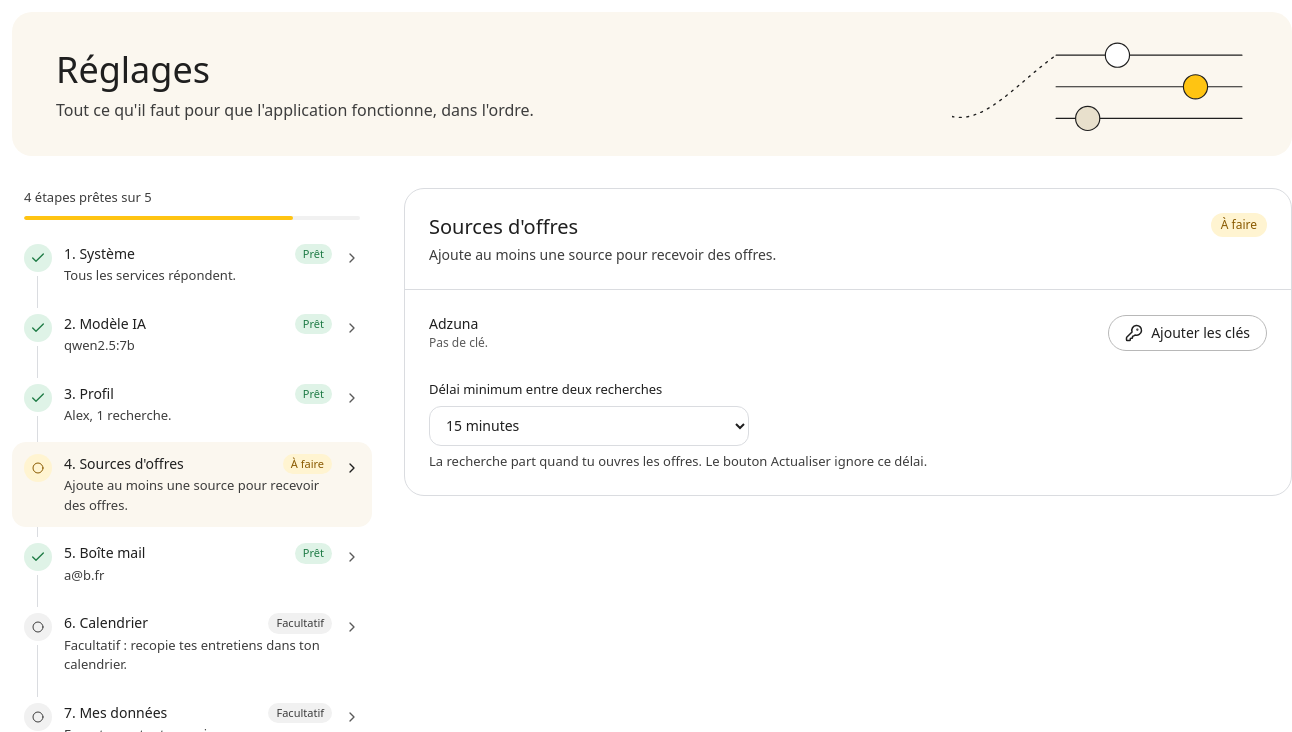
Test: SettingsScreen › keeps refused source keys out and explains why, then accepts good ones
Click the button "Ajouter les clés": (1188, 333) [1108,315,1267,351]
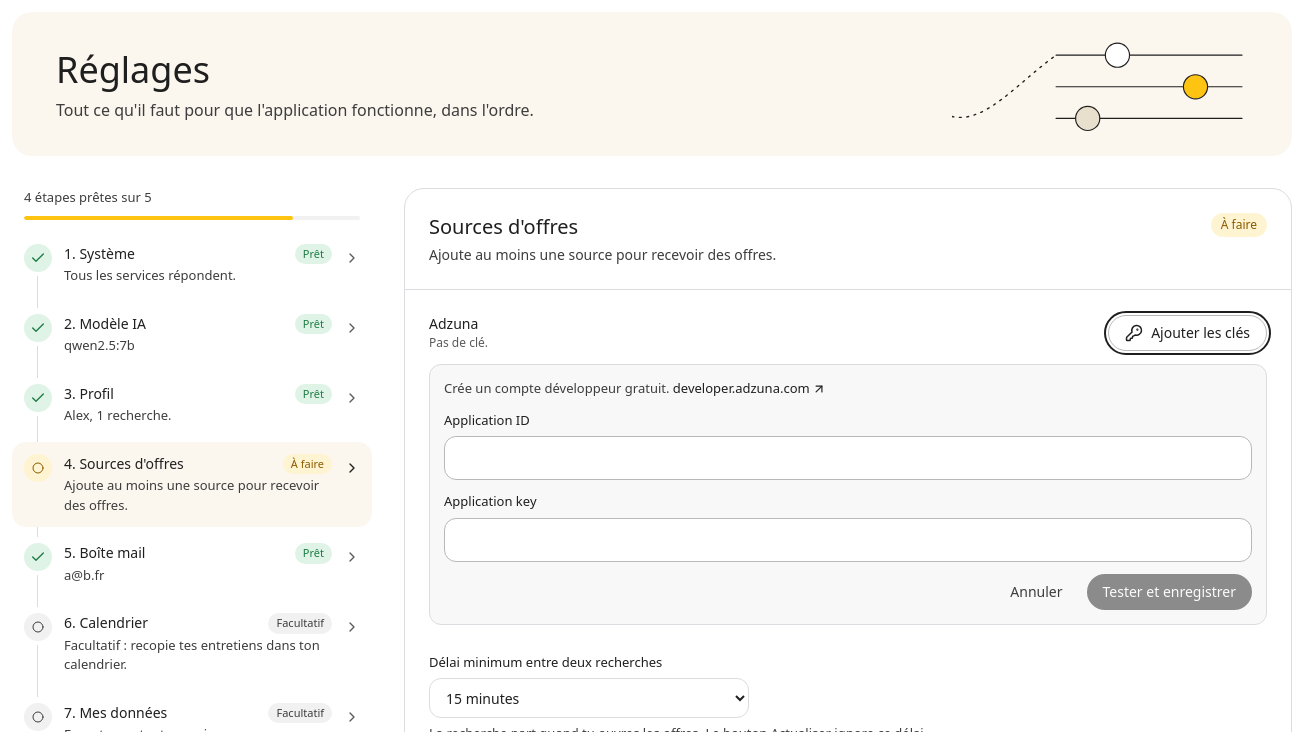
In the field labelled "Application ID": (848, 458) [444,436,1252,480], type "id"
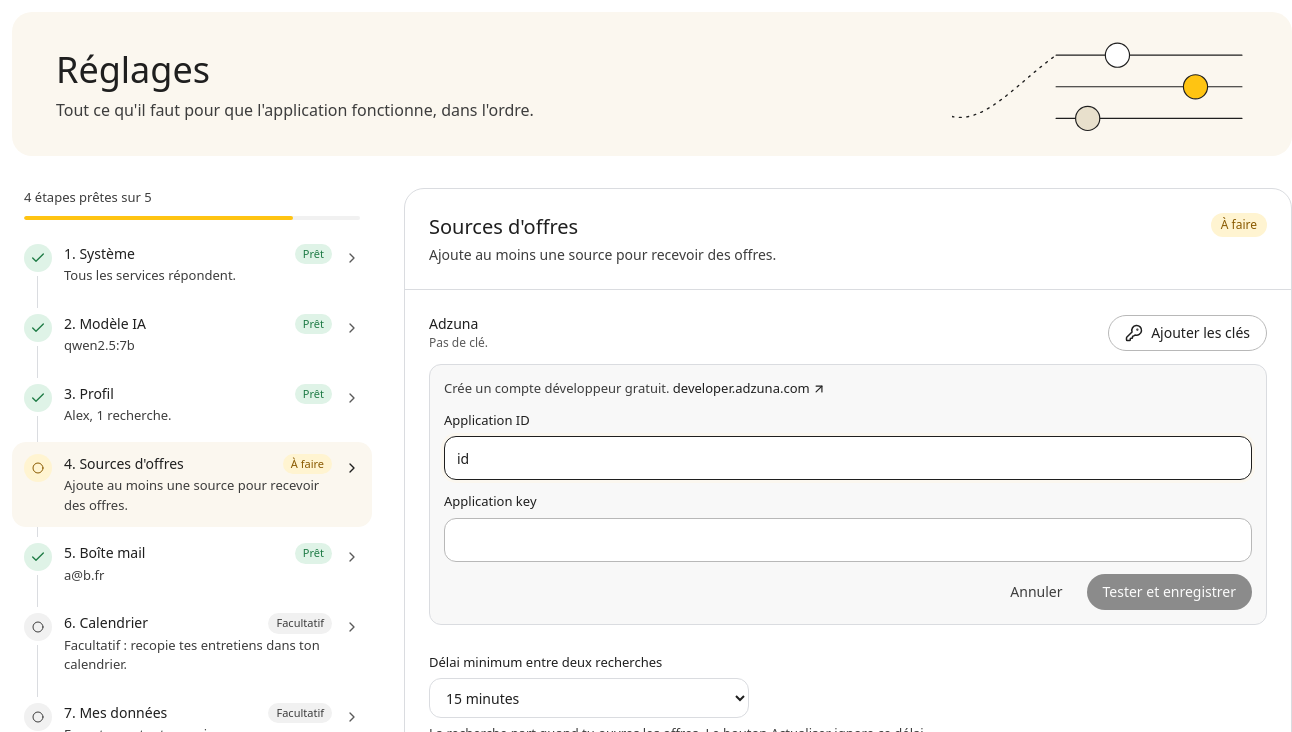
In the password field labelled "Application key": (848, 540) [444,518,1252,562], type "mauvais"
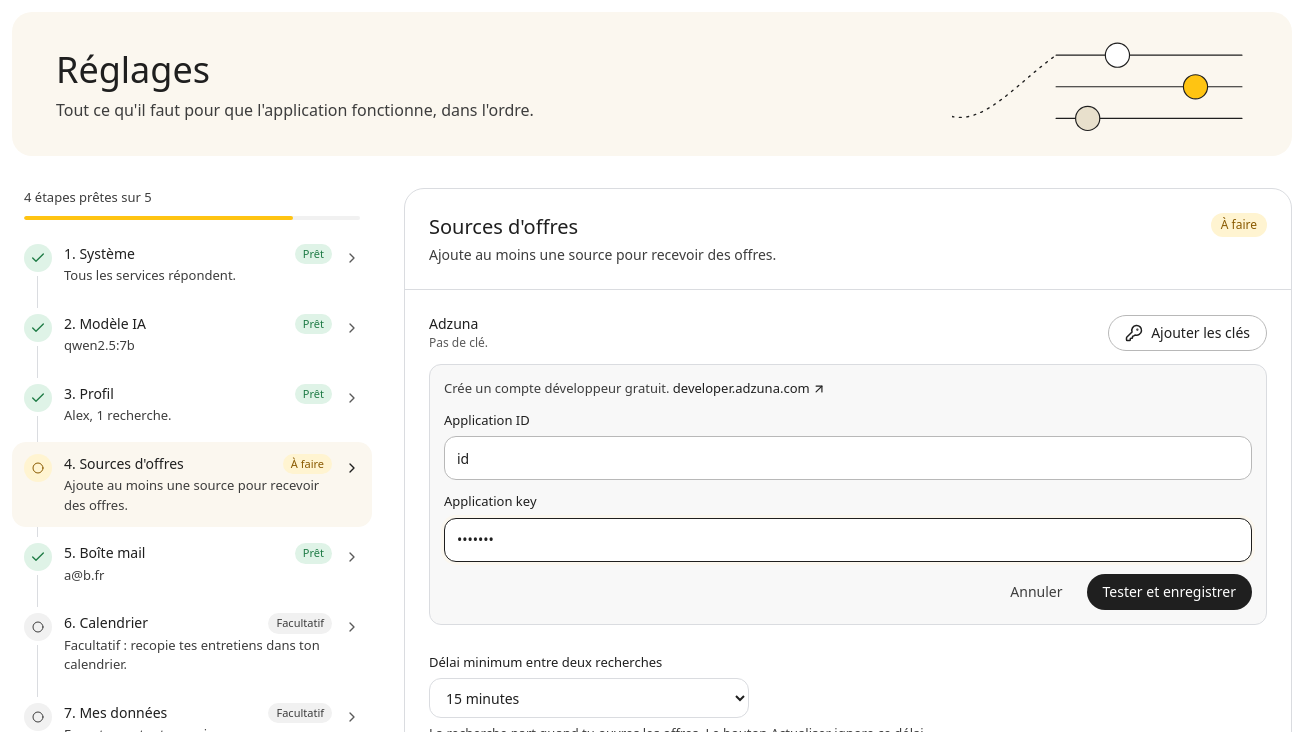
Click the button "Tester et enregistrer": (1169, 592) [1086,574,1252,610]
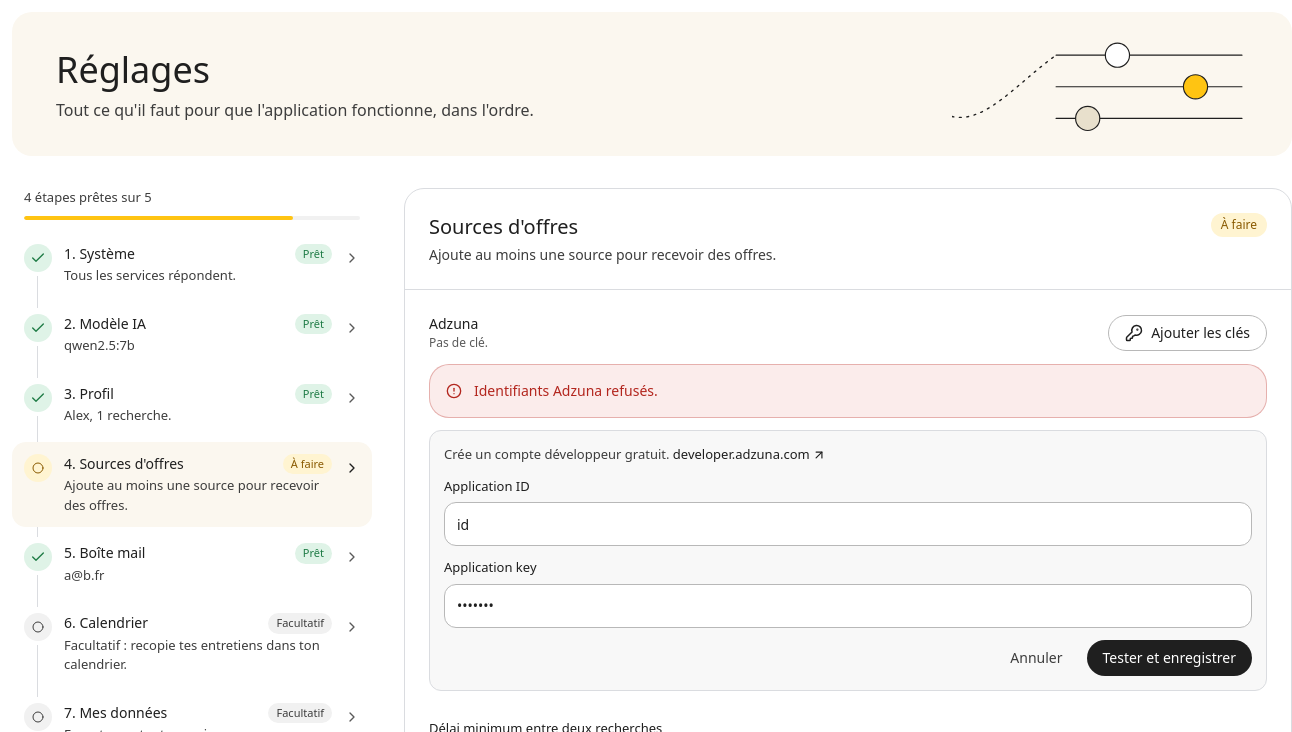
expect the text "Identifiants Adzuna refusés." is shown: met, box [474,381,658,401]
In the password field labelled "Application key": (848, 606) [444,584,1252,628], type "bon"
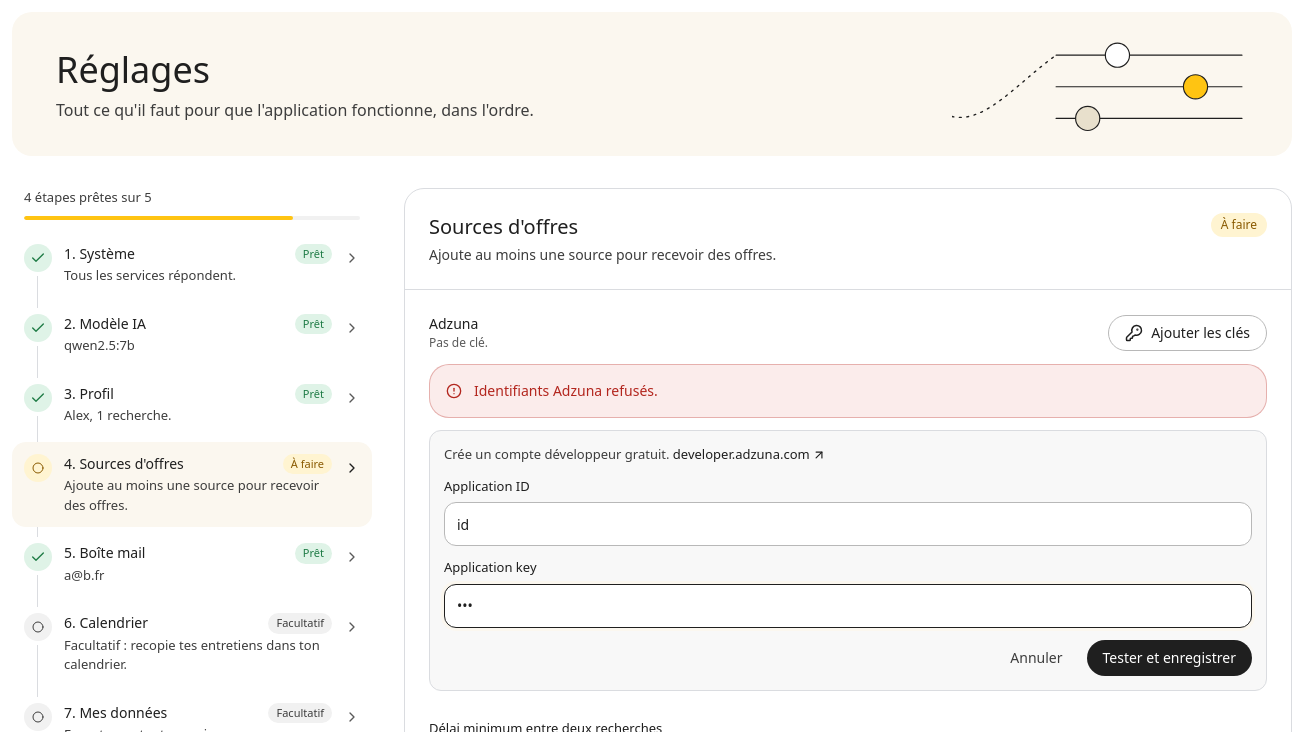
Click the button "Tester et enregistrer": (1169, 658) [1086,640,1252,676]
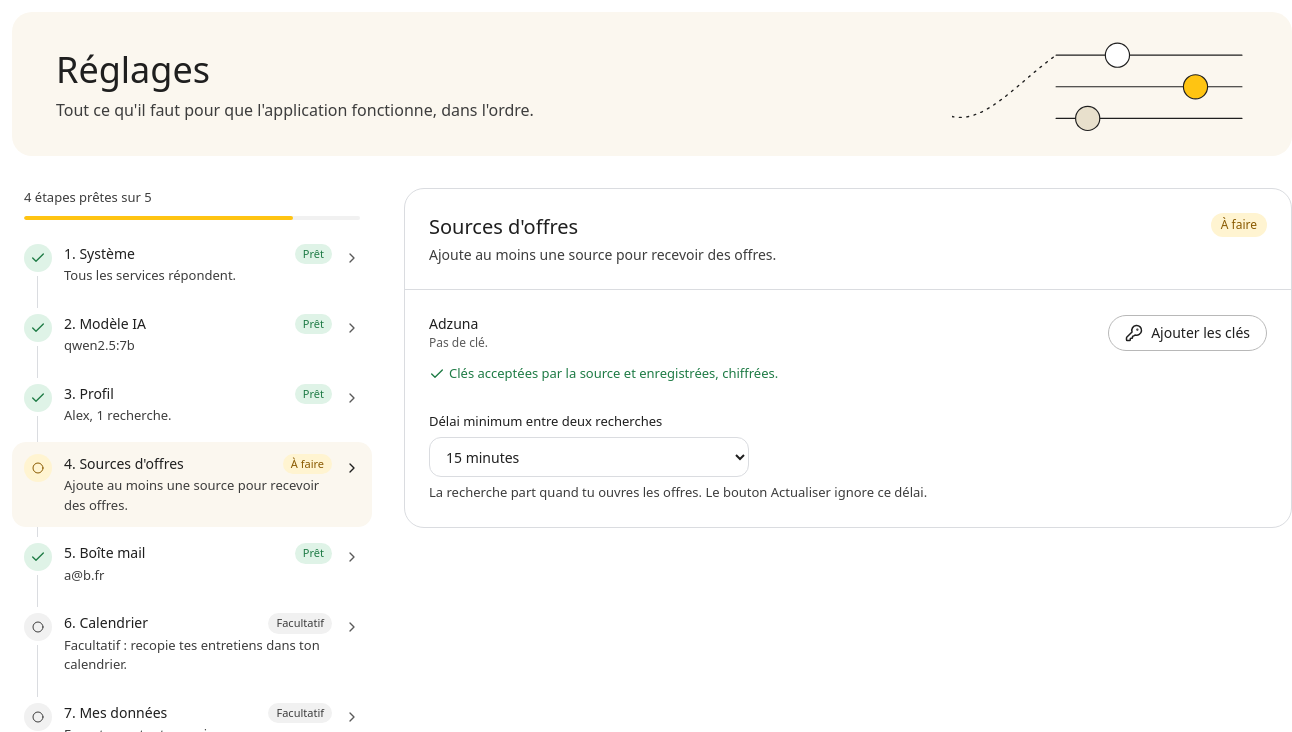
expect the text "Clés acceptées par la source et enregistrées, chiffrées." is shown: met, box [429,364,778,382]
expect the label labelled "Application key" is gone: met
